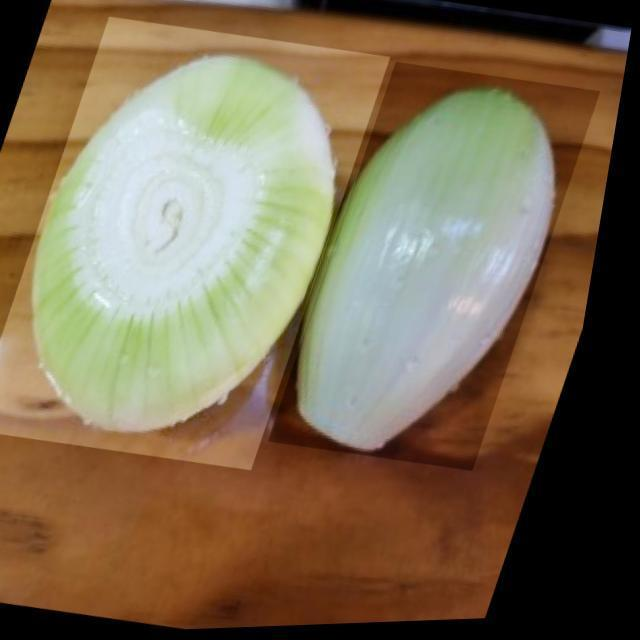Onion: (0, 8, 399, 481), (277, 58, 608, 480)
